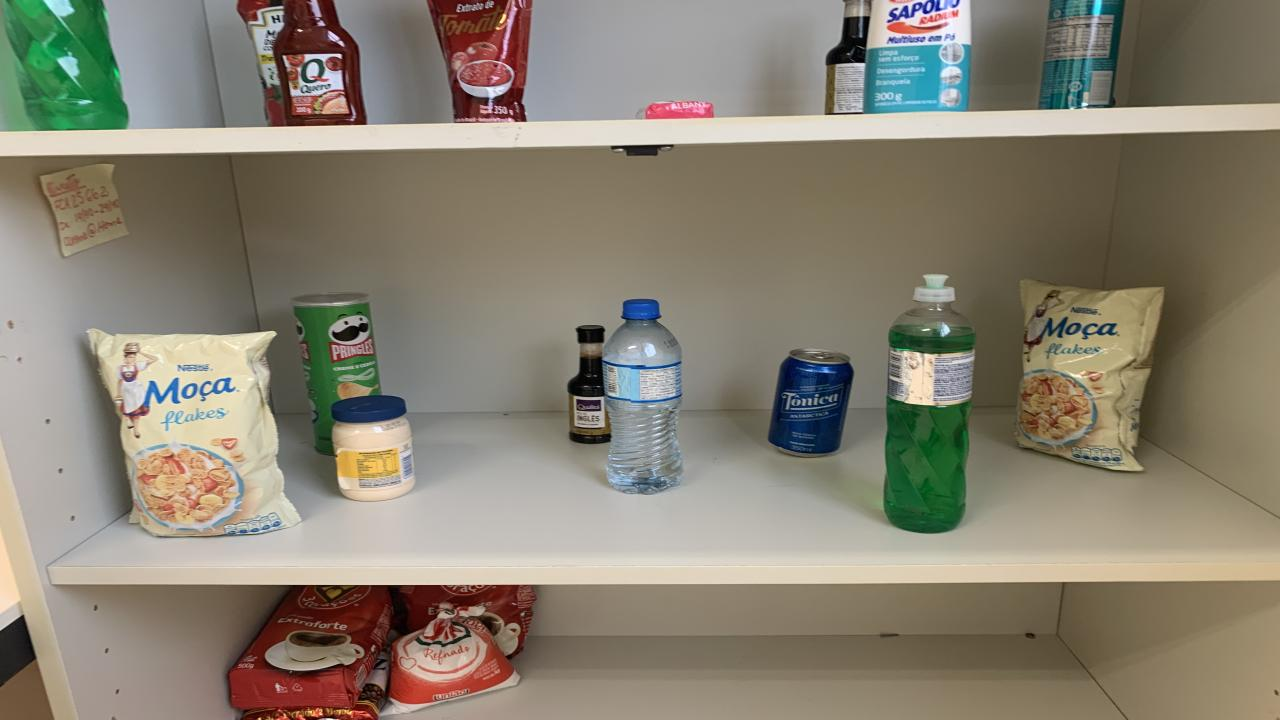Cleaner-Cleanup_Items: (865, 0, 970, 114)
Detergent-Cleanup_Items: (885, 274, 975, 532), (2, 0, 128, 129)
English_Sauce-Pantry_Items: (825, 0, 870, 114), (568, 324, 610, 444)
Flakes-Snacks: (88, 330, 300, 538), (1018, 279, 1165, 471)
Ketchup-Pantry_Items: (272, 0, 365, 126)
Mayonnaise-Pantry_Items: (330, 396, 415, 501)
Pringles-Snacks: (292, 292, 380, 454)
Soap-Cleanup_Items: (635, 101, 712, 120)
Tea-Drinks: (1040, 0, 1125, 109)
Tomato_Sauce-Pantry_Items: (428, 0, 532, 124), (238, 0, 285, 126)
Tonic-Drinks: (768, 349, 852, 456)
Water_Bottle-Drinks: (602, 317, 682, 493)
